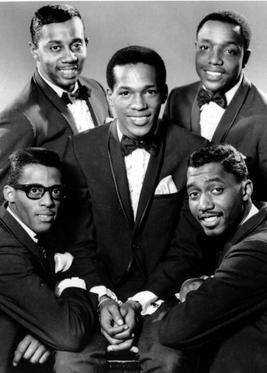bad: (176, 170, 239, 232), (11, 170, 73, 232), (112, 78, 164, 130), (37, 26, 89, 78), (187, 32, 239, 84)
